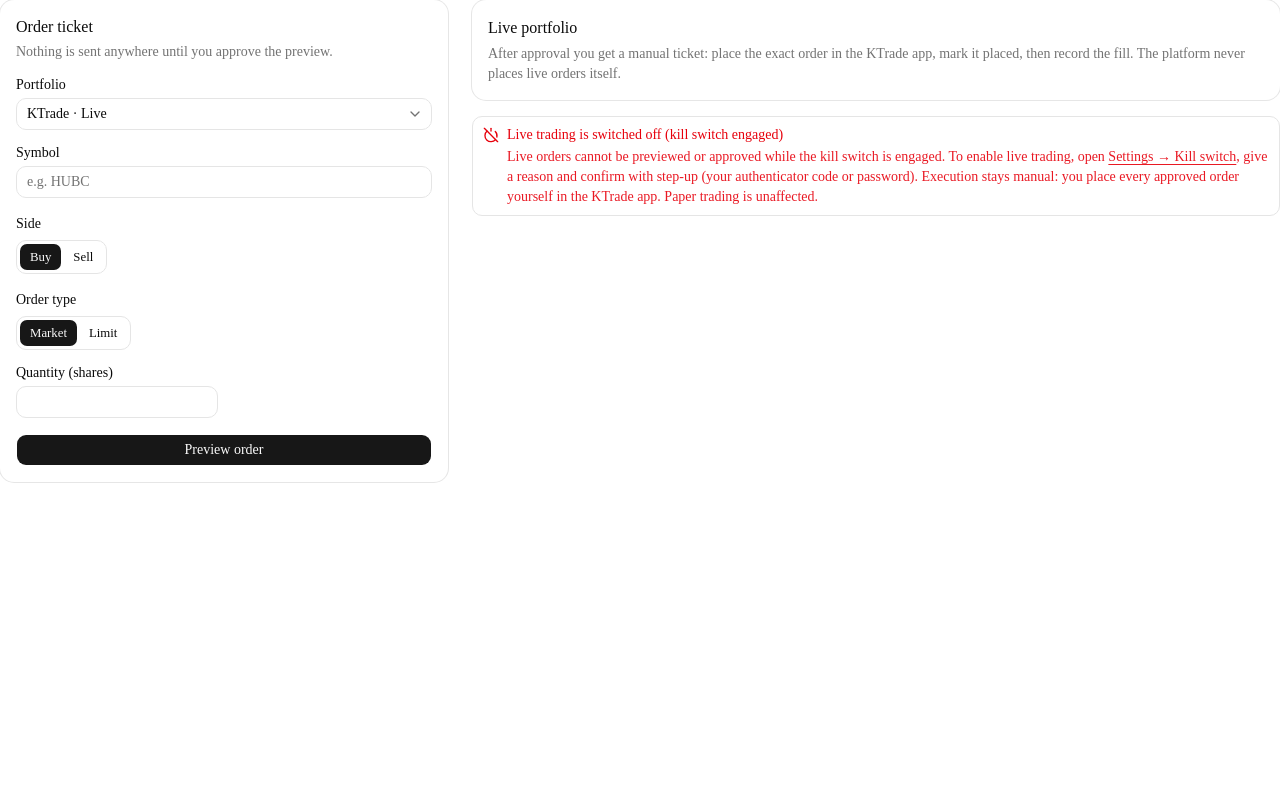
Test: Order ticket › live with the kill switch engaged: explains how to enable it and offers no approval
Expected: the message with test id "kill-switch-notice" is shown, [472,116,1279,216]
Expected: the dropdown named "portfolio" shows "·", [16,98,432,130]
Step 1. Type "ogdc" into the field labelled "Symbol" → (224, 182), box [16,166,432,198]
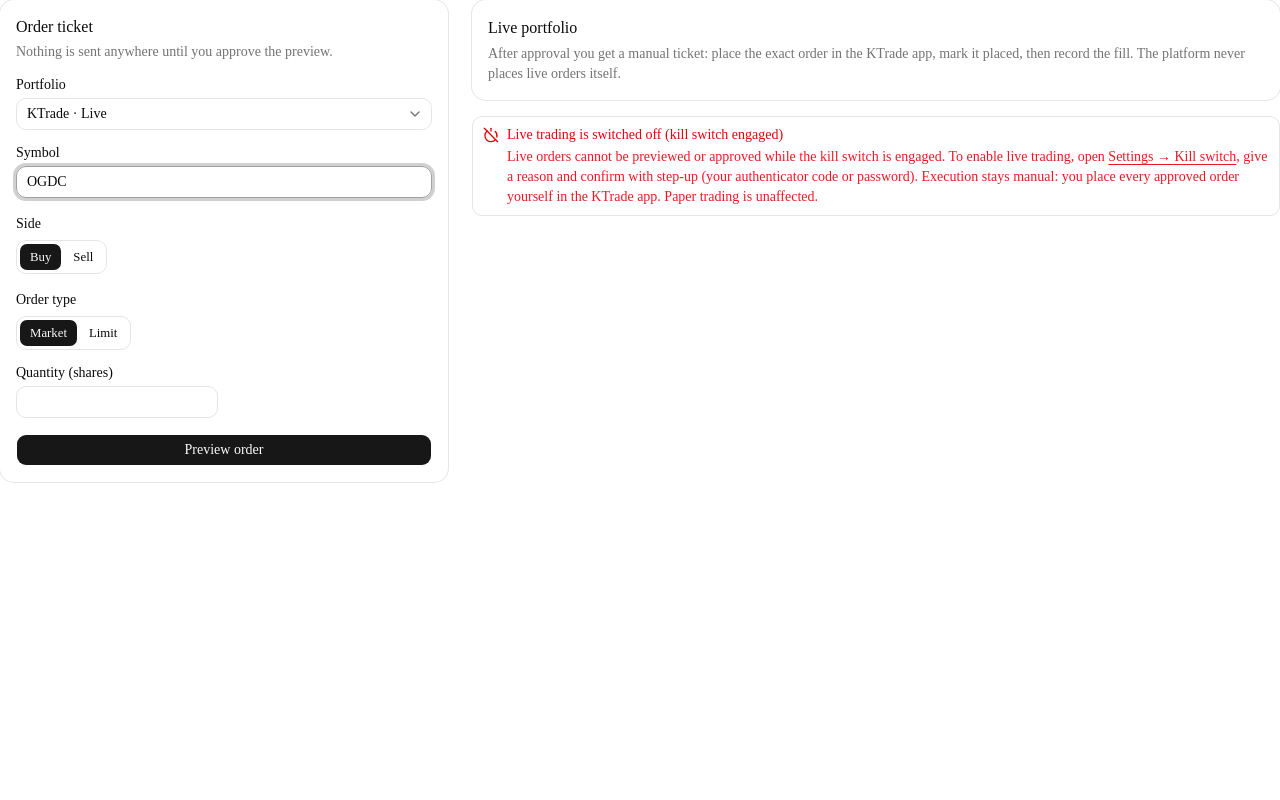
Step 2. Type "10" into the field labelled "Quantity (shares)" → (117, 402), box [16,386,218,418]
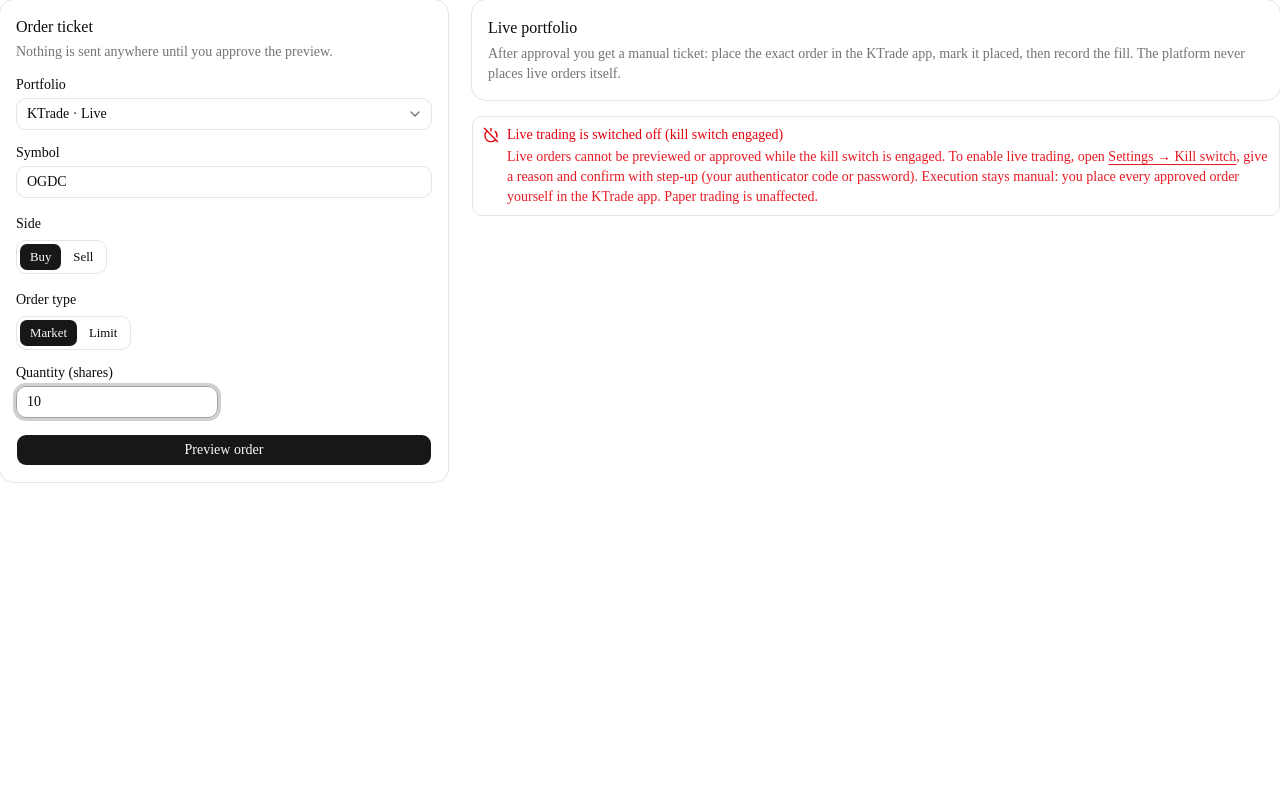
Step 3. Click the button "Preview order" → (224, 450), box [16,434,432,466]
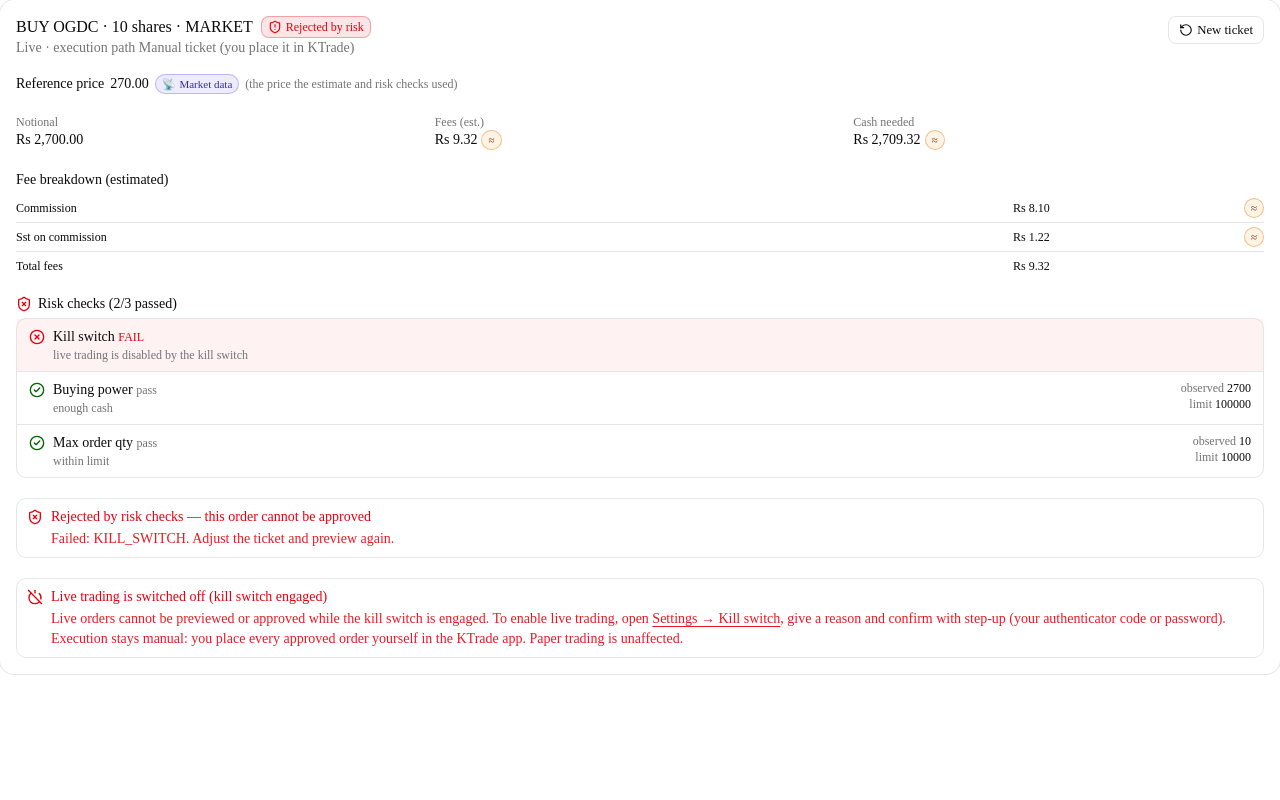
Expected: the message with test id "kill-switch-notice" shows "step-up", [51,611,1226,646]
Result: the message with test id "risk-rejected" is shown at [16,498,1264,558]
Result: the list item "Kill switch FAIL live trading is disabled by the kill switch" is shown at [17,319,1263,372]
